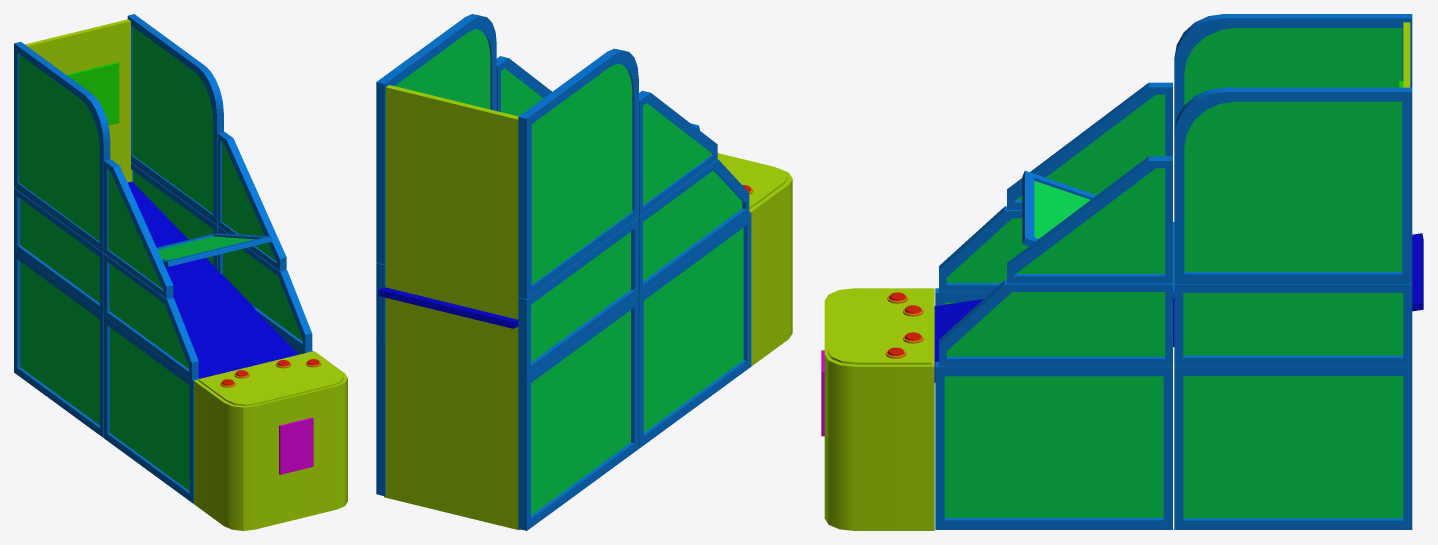
File: BasketBallGame.fbx
The picture shows the model from 3 angles, left to right: view 1: azimuth 30°, elevation 25°; view 2: azimuth 150°, elevation 25°; view 3: azimuth 270°, elevation 25°; orthographic projection. The views are drawn at different scales.
Visible parts, largest first — view 1: pPlane41; view 2: pPlane41; view 3: pPlane41.
Boxes of the visible parts, left/top/right/bottom form: pPlane41: left=14, top=14, right=347, bottom=530; pPlane41: left=376, top=14, right=792, bottom=530; pPlane41: left=821, top=14, right=1423, bottom=530.
Size of the model in its own units: 26.12 by 68.14 by 84.48.
